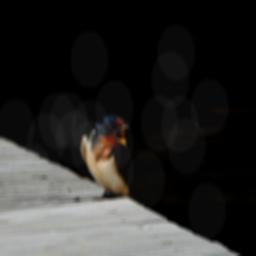Swallow: (79, 112, 139, 200)
